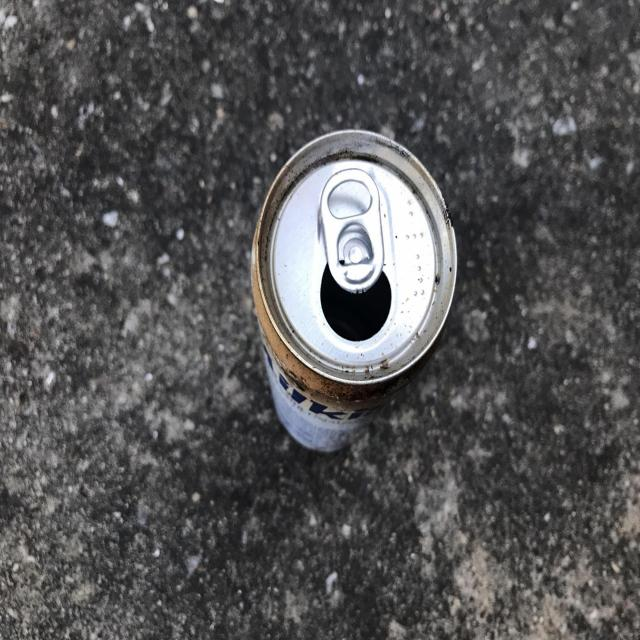can: (252, 129, 457, 452)
